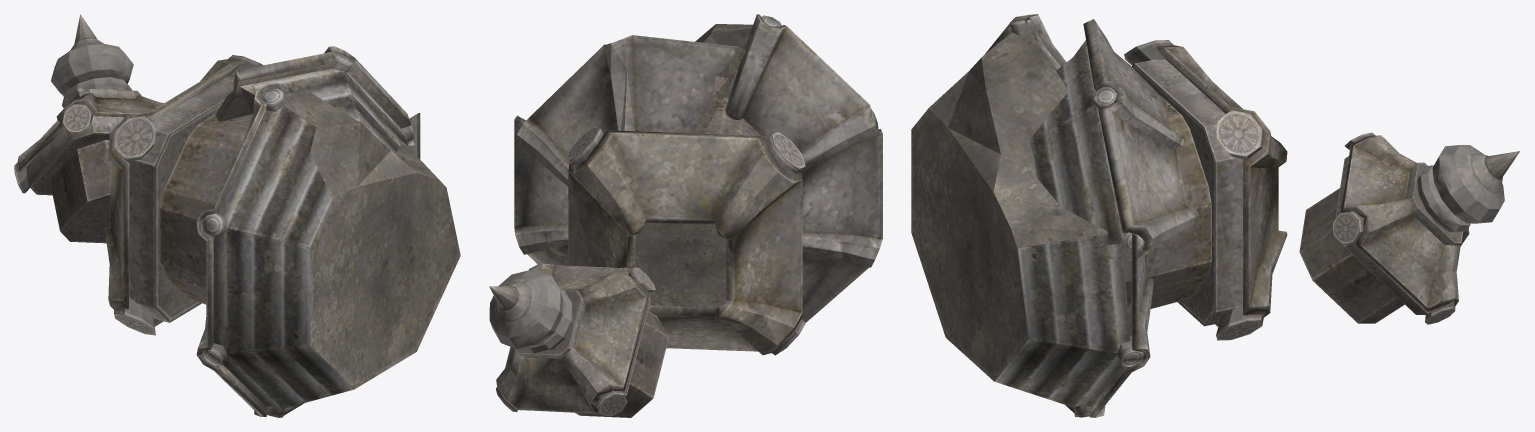
The model's file is bg_anh_mirrorv_sp03_sm_old.FBX.
3 renders of one model, left to right at view 1: azimuth 30°, elevation 25°; view 2: azimuth 150°, elevation 25°; view 3: azimuth 270°, elevation 25°, orthographic. The views are drawn at different scales.
Parts seen in each view (by area): view 1: bg_anh_mirrorv_sp03_sm_old; view 2: bg_anh_mirrorv_sp03_sm_old; view 3: bg_anh_mirrorv_sp03_sm_old.
Part boxes in pixels (bbox=[...]): bg_anh_mirrorv_sp03_sm_old: bbox=[14, 14, 460, 417]; bg_anh_mirrorv_sp03_sm_old: bbox=[489, 14, 882, 417]; bg_anh_mirrorv_sp03_sm_old: bbox=[911, 14, 1519, 417].
Bounding box in the file's own units: 109 × 118 × 185.
